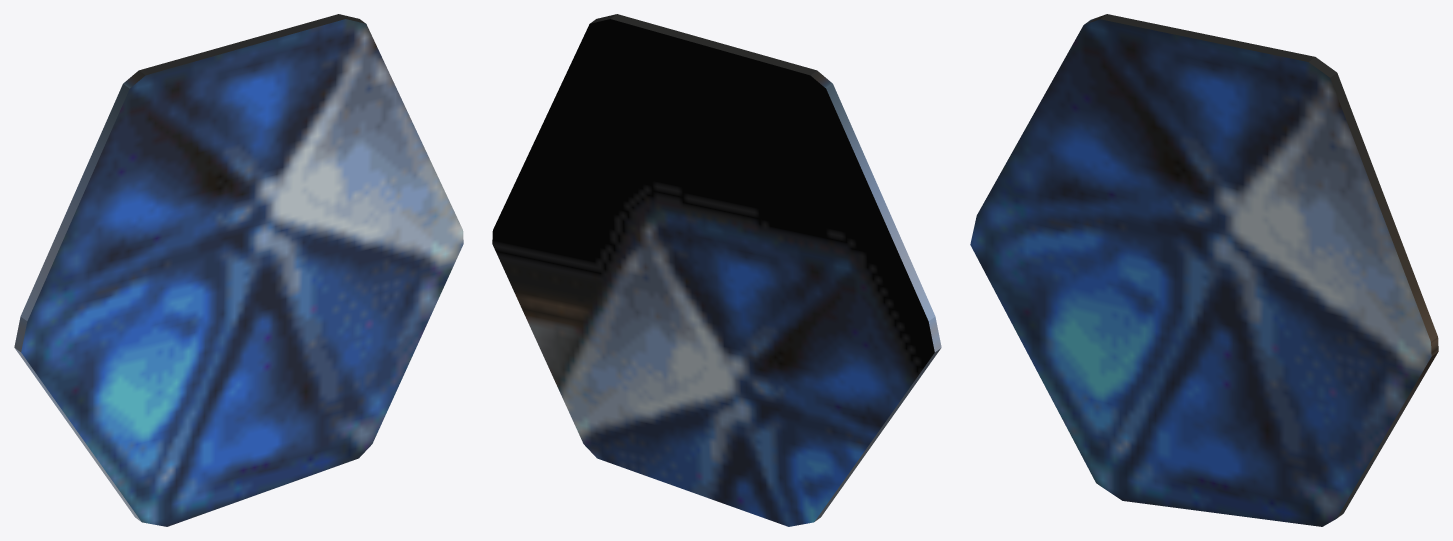
Rendered from Mana.glb.
The picture shows the model from 3 angles, left to right: view 1: azimuth 30°, elevation 25°; view 2: azimuth 150°, elevation 25°; view 3: azimuth 330°, elevation 25°; orthographic projection. The views are drawn at different scales.
Parts seen in each view (by area): view 1: Circle.002; view 2: Circle.002; view 3: Circle.002.
Part boxes in pixels (x1,y1,x2,y2): Circle.002: [14, 14, 463, 526]; Circle.002: [492, 14, 941, 526]; Circle.002: [970, 14, 1438, 526].
Size of the model in its own units: 1.87 by 1.88 by 0.05.
1 material, 1 textured.
